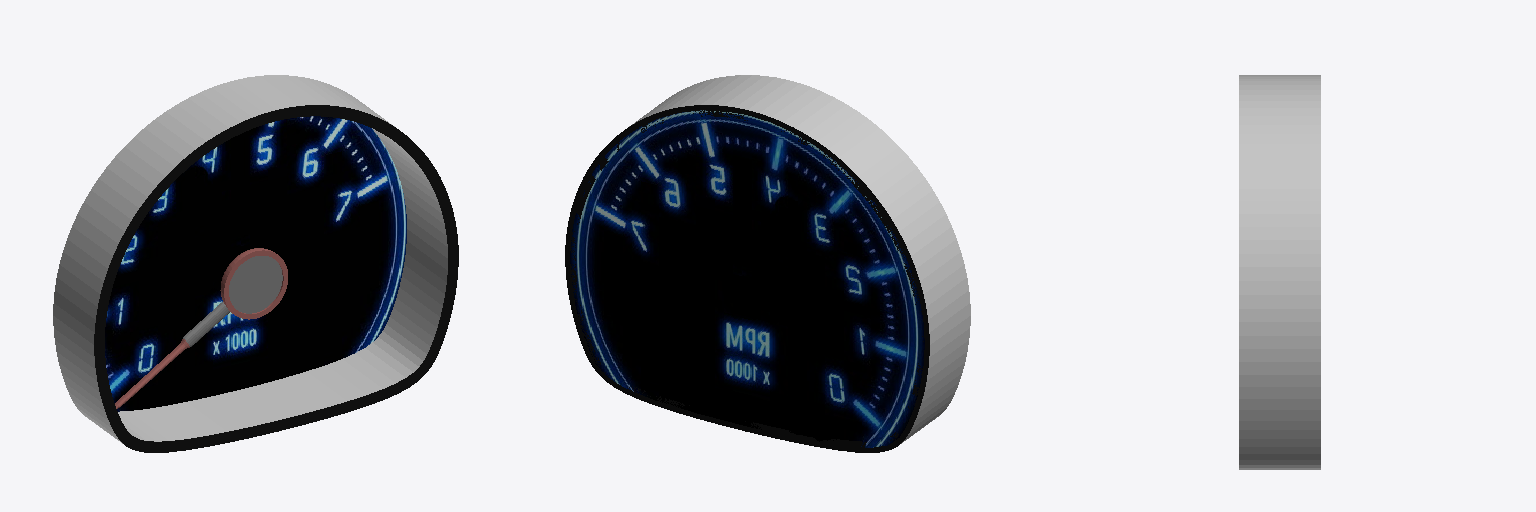
3 renders of one model, left to right at view 1: azimuth 30°, elevation 25°; view 2: azimuth 150°, elevation 25°; view 3: azimuth 270°, elevation 25°, orthographic.
Visible parts, largest first — view 1: SpeedometerDialFace_Circle.012, SpeedometerEnclosure_TachEnclosure, RevCounterHand_Circle.007; view 2: SpeedometerDialFace_Circle.012, SpeedometerEnclosure_TachEnclosure; view 3: SpeedometerEnclosure_TachEnclosure.
Boxes of the visible parts, x1,y1,x2,y2 form: SpeedometerDialFace_Circle.012: [105, 116, 406, 411]; SpeedometerEnclosure_TachEnclosure: [53, 75, 458, 452]; RevCounterHand_Circle.007: [115, 248, 287, 408]; SpeedometerDialFace_Circle.012: [570, 110, 924, 447]; SpeedometerEnclosure_TachEnclosure: [565, 75, 970, 452]; SpeedometerEnclosure_TachEnclosure: [1239, 75, 1320, 469].
Bounding box in the file's own units: 2.06 × 1.73 × 0.4004.
Materials: 5 (1 with a texture image).